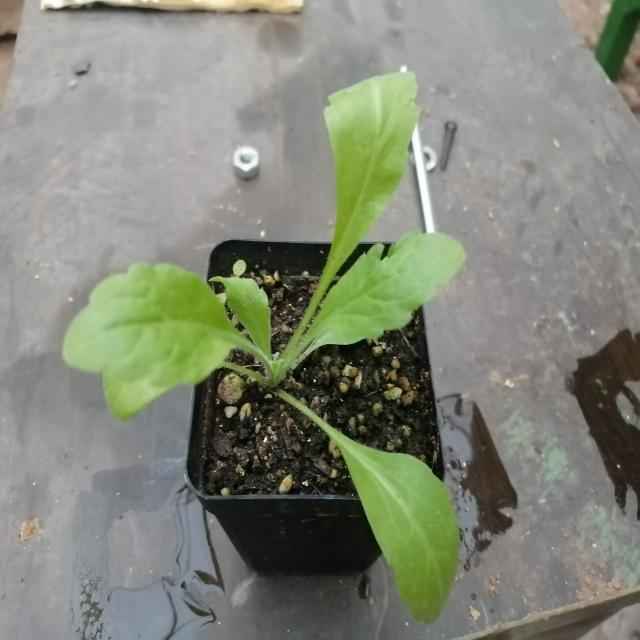horseweed: (80, 82, 486, 620)
